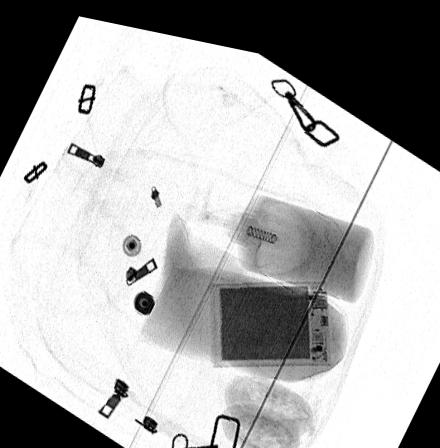Powerbank: (210, 266, 331, 360)
